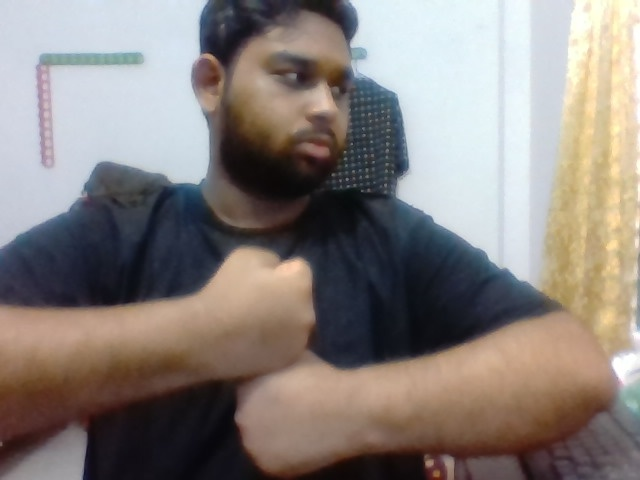G: (193, 237, 372, 476)
